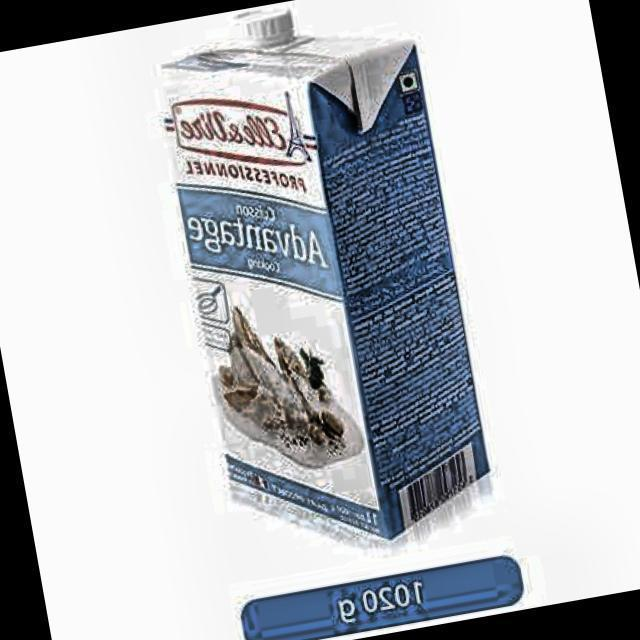cardboard: (144, 0, 502, 567)
